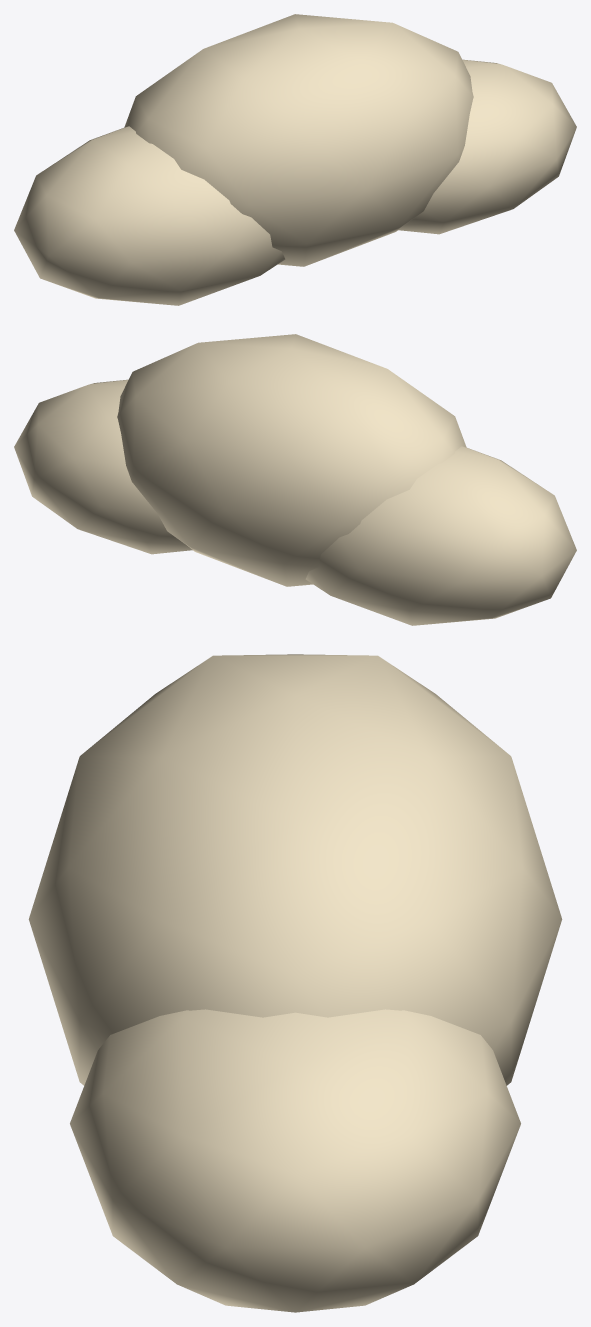
Rendered from tpe5_cloud_lobe.glb.
3 renders of one model, top to bottom at view 1: azimuth 30°, elevation 25°; view 2: azimuth 150°, elevation 25°; view 3: azimuth 270°, elevation 25°, orthographic. The views are drawn at different scales.
Visible parts, largest first — view 1: tpe5_cloud_lobe__tpe5-street-ivory; view 2: tpe5_cloud_lobe__tpe5-street-ivory; view 3: tpe5_cloud_lobe__tpe5-street-ivory.
Part boxes in pixels (x1,y1,x2,y2): tpe5_cloud_lobe__tpe5-street-ivory: (14, 14, 576, 305); tpe5_cloud_lobe__tpe5-street-ivory: (14, 334, 576, 625); tpe5_cloud_lobe__tpe5-street-ivory: (28, 654, 562, 1312).
Bounding box in the file's own units: 2.97 × 1.25 × 1.3.
